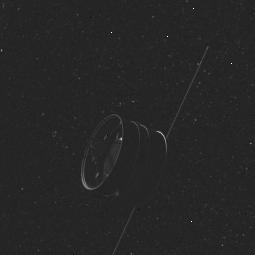double_start: (72, 106, 180, 210)
